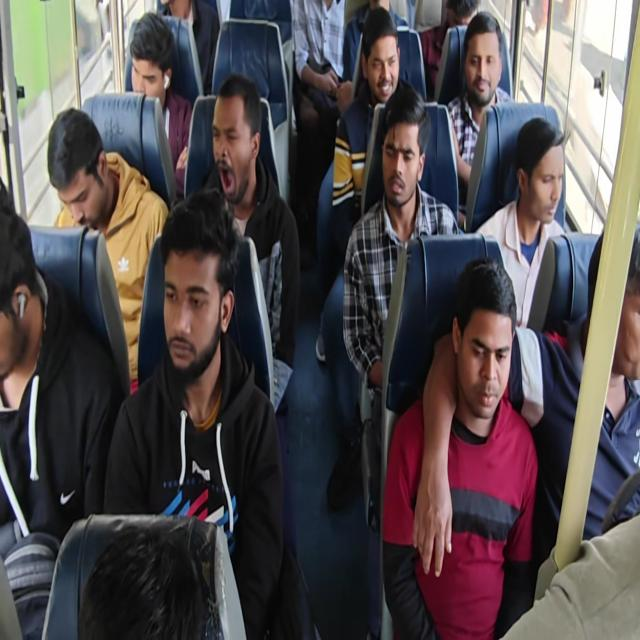person: (87, 527, 227, 640), (158, 200, 224, 370), (586, 217, 640, 397), (455, 276, 518, 424), (46, 115, 110, 232), (207, 88, 268, 207), (515, 120, 576, 227), (0, 185, 32, 370), (119, 26, 176, 110), (459, 13, 502, 110), (379, 110, 416, 204)
